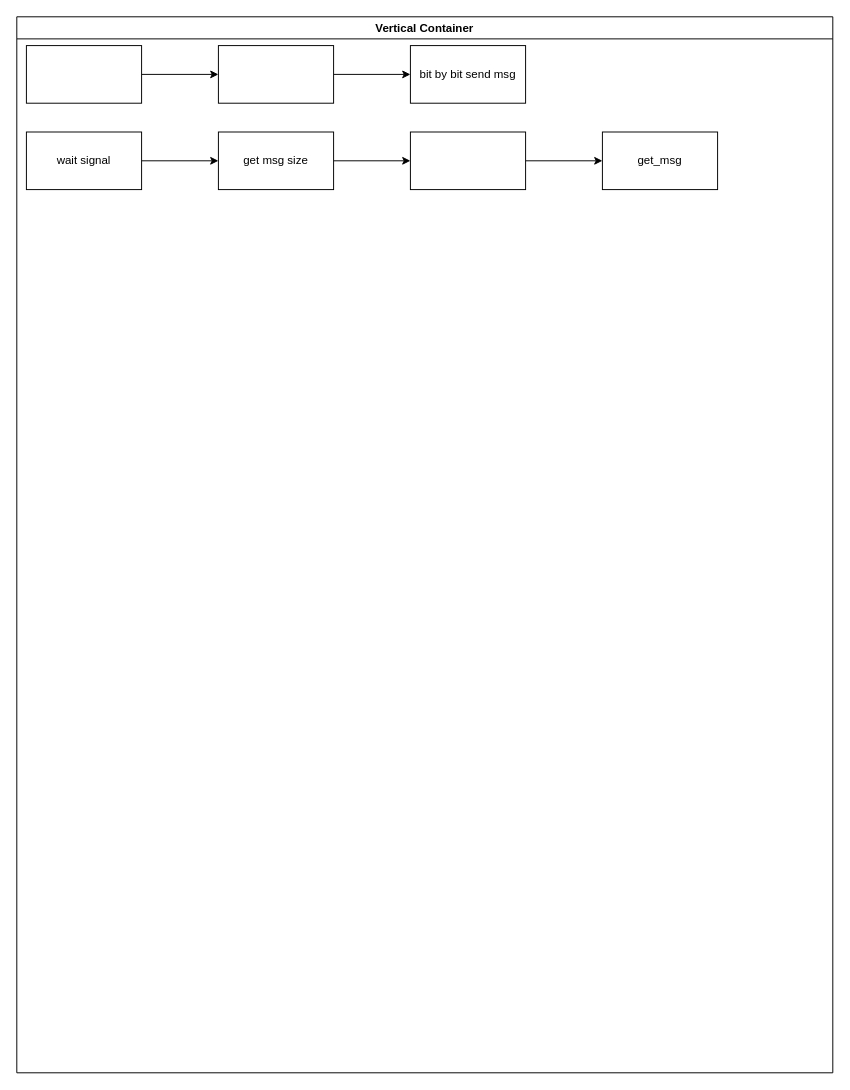
The diagram is 850 pixels wide and 1090 high, and some of its shapes have lost their labels. The shapes that lost their labels are listed below. From the top down, each one's box as (x1, y1, x2, y2) in pixels, then its label:
(25, 45, 142, 103): read argv
(217, 45, 334, 103): send strlen(msg)
(409, 131, 526, 190): alloc it
